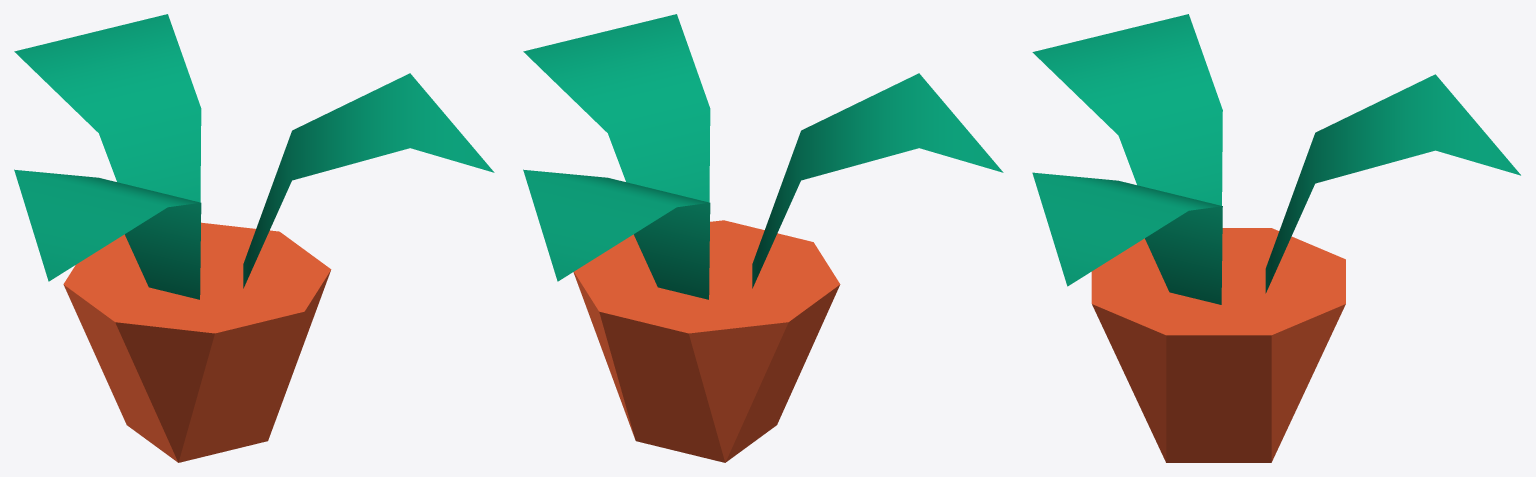
File: carrot.fbx
3 renders of one model, left to right at view 1: azimuth 30°, elevation 25°; view 2: azimuth 150°, elevation 25°; view 3: azimuth 270°, elevation 25°, orthographic.
Visible parts, largest first — view 1: mergedBlocks; view 2: mergedBlocks; view 3: mergedBlocks.
Part boxes in pixels (x1,y1,x2,y2): mergedBlocks: [14, 14, 494, 462]; mergedBlocks: [523, 14, 1003, 462]; mergedBlocks: [1032, 14, 1520, 462].
Size of the model in its own units: 7.47 by 5.16 by 6.97.
